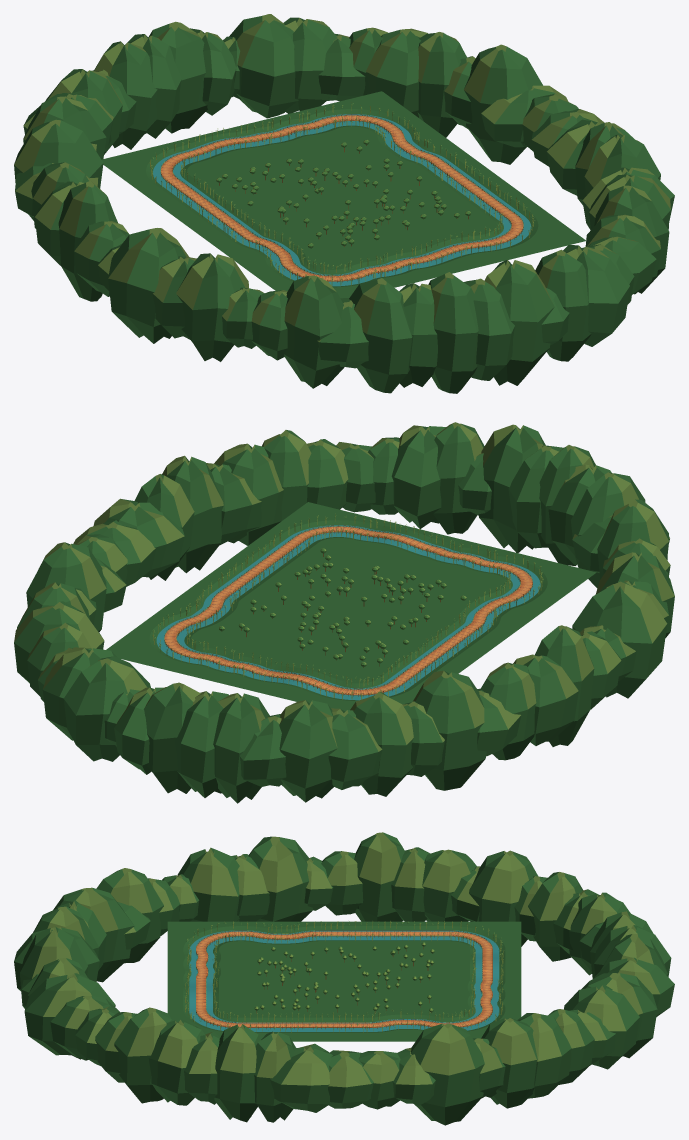
File: Guaduales.glb
The picture shows the model from 3 angles, top to bottom: view 1: azimuth 30°, elevation 25°; view 2: azimuth 150°, elevation 25°; view 3: azimuth 270°, elevation 25°; orthographic projection. The views are drawn at different scales.
Visible parts, largest first — view 1: Puente, Via; view 2: Puente, Via; view 3: Puente, Via.
Part boxes in pixels (x1,y1,x2,y2): Puente: (14,14,674,393); Via: (161,115,523,280); Puente: (14,422,674,803); Via: (165,526,532,694); Puente: (14,832,674,1125); Via: (196,931,492,1027).
Size of the model in its own units: 542 by 117 by 669.
Materials: 2 (2 with a texture image).
